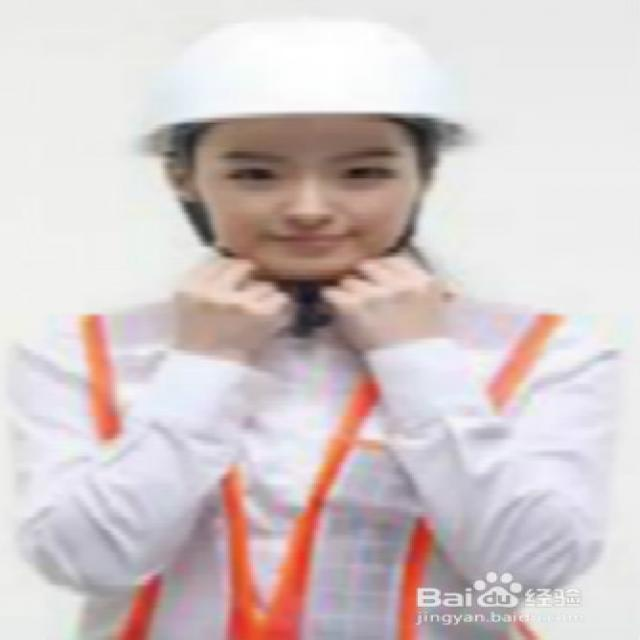Reflective-Jacket: (0, 302, 600, 636)
Safety-Helmet: (146, 9, 475, 141)
